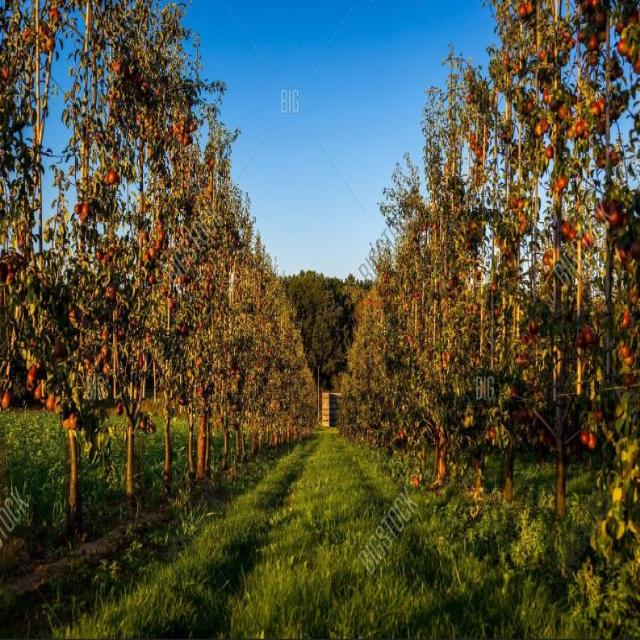row: (0, 425, 596, 640)
